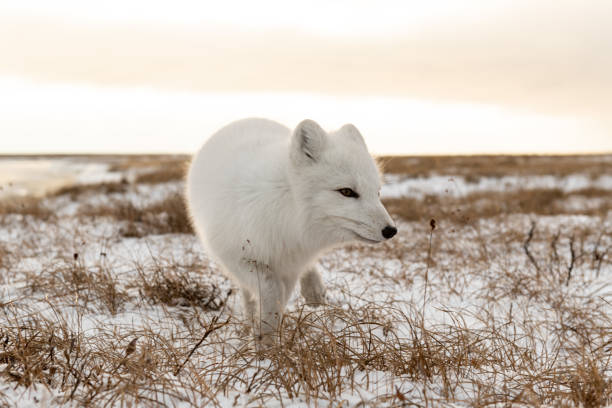arcticfox: (301, 133, 371, 249)
